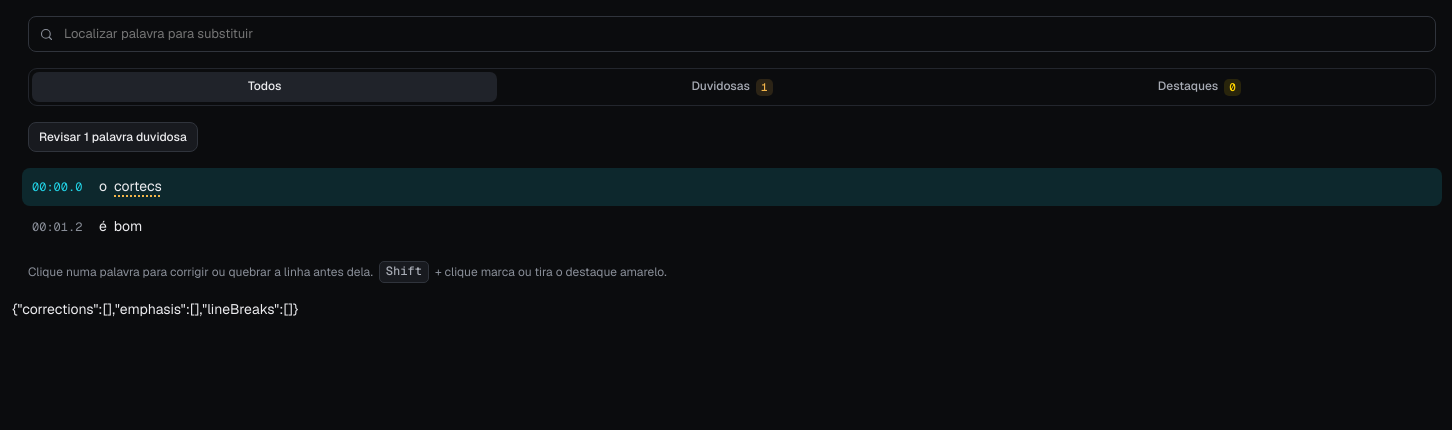
Test: find and replace reports how many words changed
Check: the field labelled "Substituir por" is not shown
Type "COrtecs" into the field labelled "Localizar". click: (744, 34)
box: [62,24,1425,44]
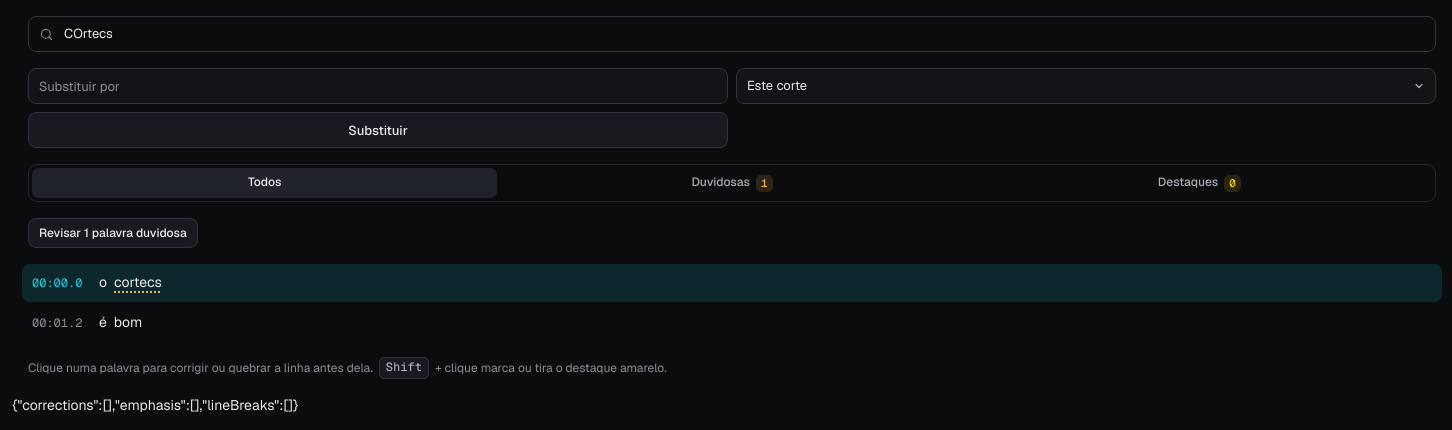
Type "CorteX" into the field labelled "Substituir por". click: (378, 86)
box: [28,68,728,104]
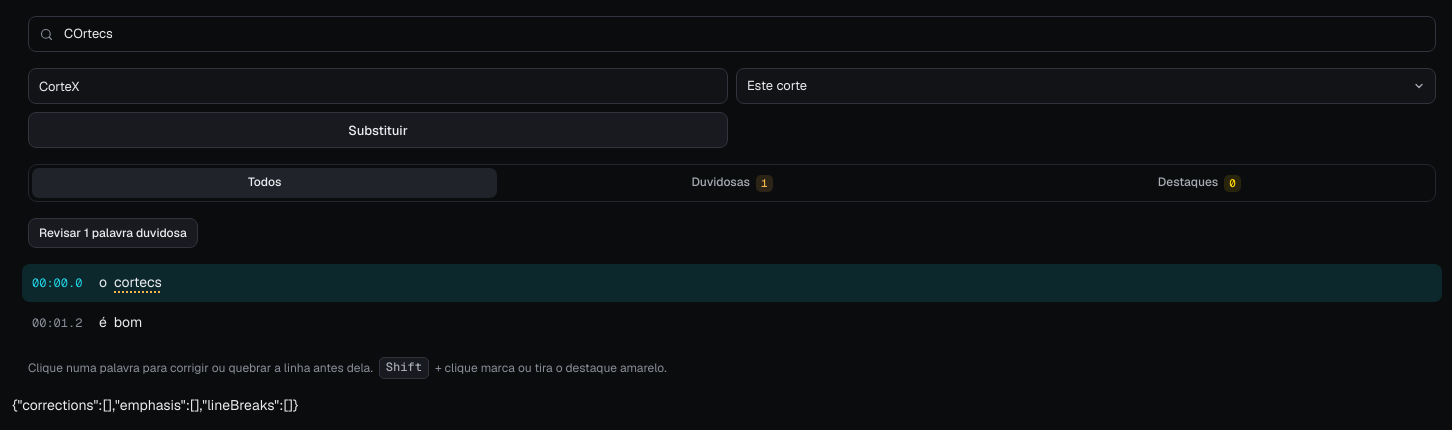
Click the button "Substituir". click: (378, 130)
box: [28,112,728,148]
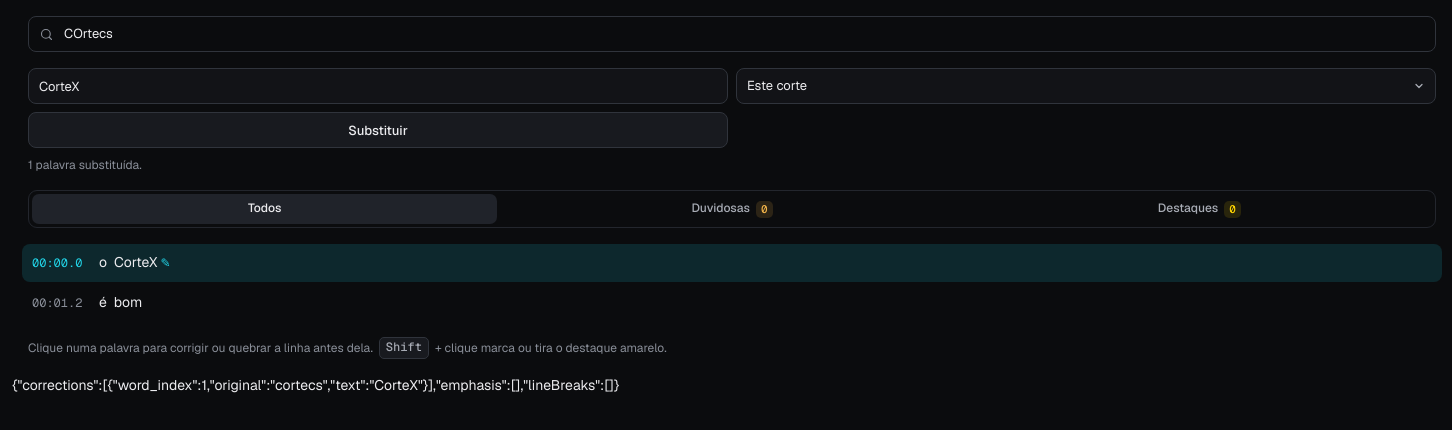
Check: the text "1 palavra substituída." is shown, box [28,157,142,173]
